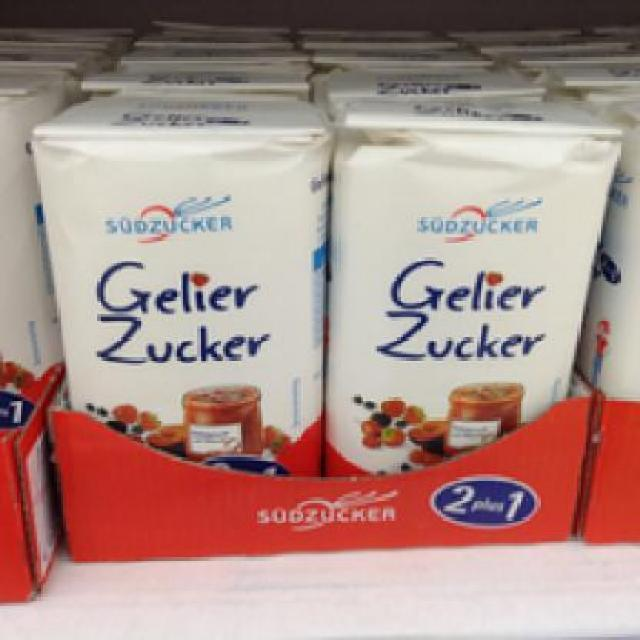Sugar: (320, 94, 626, 472), (28, 88, 326, 474)
